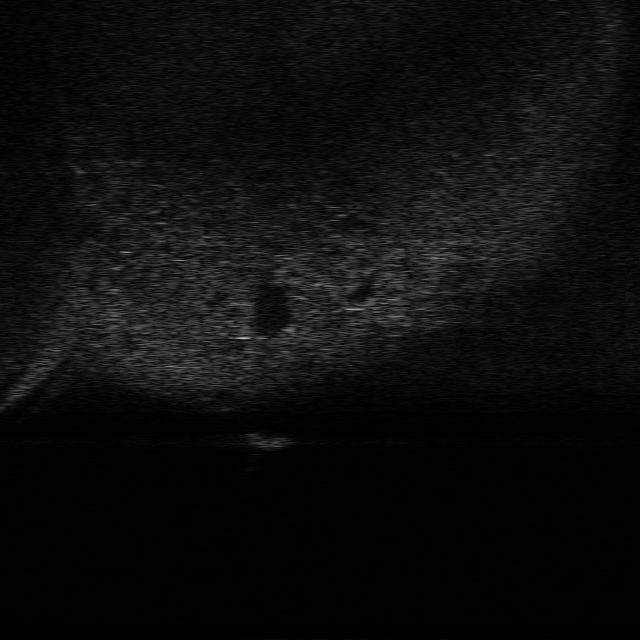cube: (241, 430, 295, 452)
